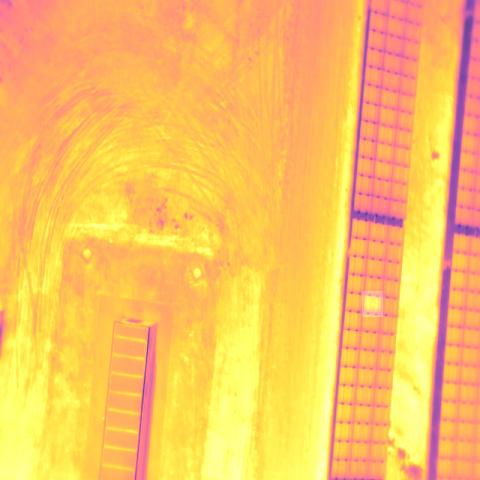fault: (362, 291, 383, 317)
